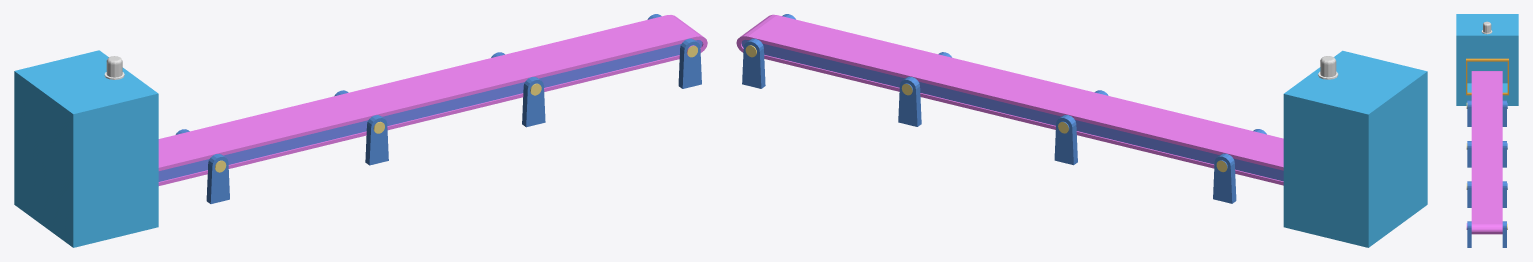
File: conveyor.fbx
3 views of the same model, side by side, from view 1: azimuth 30°, elevation 25°; view 2: azimuth 150°, elevation 25°; view 3: azimuth 270°, elevation 25° (orthographic). The views are drawn at different scales.
Parts seen in each view (by area): view 1: Cube.050, Cube.002, Cube.001, Cube.054, Cube.056, Cube.051, Cube.058, Cylinder.004; view 2: Cube.050, Cube.002, Cube.001, Cube.052, Cube.055, Cube.059, Cube.057, Cylinder.004; view 3: Cube.002, Cube.050, Cube.059, Cube.057, Cube.056, Cube.055, Cube.054, Cube.052, Cube.051, Cube.058, Cylinder.004.
Part boxes in pixels (x1,y1,x2,y2): Cube.050: (14, 50, 158, 247); Cube.002: (158, 15, 707, 185); Cube.001: (158, 40, 702, 181); Cube.054: (678, 38, 701, 88); Cube.056: (365, 115, 388, 165); Cube.051: (522, 77, 545, 127); Cube.058: (206, 154, 229, 203); Cylinder.004: (104, 56, 124, 79); Cube.050: (1283, 50, 1427, 247); Cube.002: (736, 14, 1283, 185); Cube.001: (741, 39, 1283, 181); Cube.052: (898, 76, 921, 126); Cube.055: (742, 38, 765, 88); Cube.059: (1213, 153, 1236, 203); Cube.057: (1054, 115, 1077, 165); Cylinder.004: (1318, 56, 1338, 79); Cube.002: (1471, 71, 1502, 234); Cube.050: (1456, 14, 1518, 105); Cube.059: (1502, 100, 1507, 126); Cube.057: (1502, 141, 1507, 167); Cube.056: (1466, 141, 1471, 167); Cube.055: (1502, 221, 1507, 247); Cube.054: (1466, 221, 1471, 247); Cube.052: (1502, 181, 1507, 207); Cube.051: (1466, 181, 1471, 207); Cube.058: (1466, 100, 1471, 126); Cylinder.004: (1481, 21, 1492, 34).
Bounding box in the file's own units: 4107 × 913 × 649.
